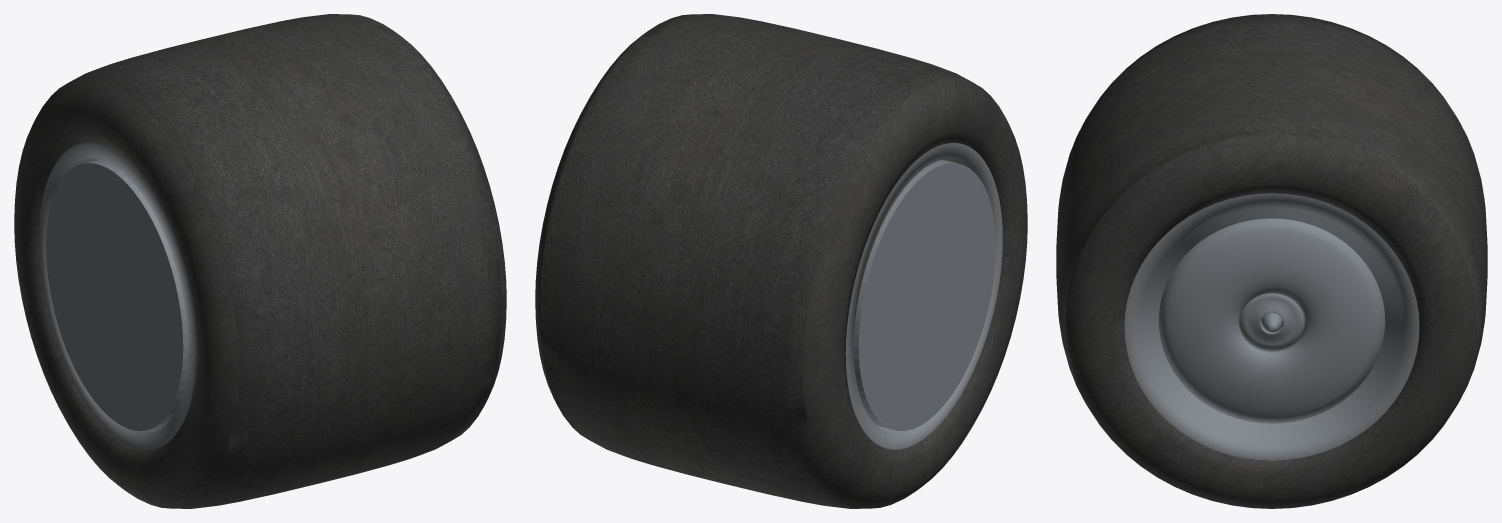
File: f1_2026_2008_wheel_rear.glb
3 views of the same model, side by side, from view 1: azimuth 30°, elevation 25°; view 2: azimuth 150°, elevation 25°; view 3: azimuth 270°, elevation 25° (orthographic). The views are drawn at different scales.
Visible parts, largest first — view 1: GEO_WHEEL_TIRE, GEO_WHEEL_HUB; view 2: GEO_WHEEL_TIRE, GEO_WHEEL_HUB; view 3: GEO_WHEEL_TIRE, GEO_WHEEL_HUB.
Part boxes in pixels (box(x1,y1,x2,y2)): GEO_WHEEL_TIRE: box(14, 14, 506, 508); GEO_WHEEL_HUB: box(39, 143, 196, 449); GEO_WHEEL_TIRE: box(535, 14, 1027, 508); GEO_WHEEL_HUB: box(845, 143, 1002, 449); GEO_WHEEL_TIRE: box(1056, 14, 1487, 508); GEO_WHEEL_HUB: box(1124, 193, 1419, 460).
Bounding box in the file's own units: 0.492 × 0.66 × 0.66.
Materials: 2 (1 with a texture image).
